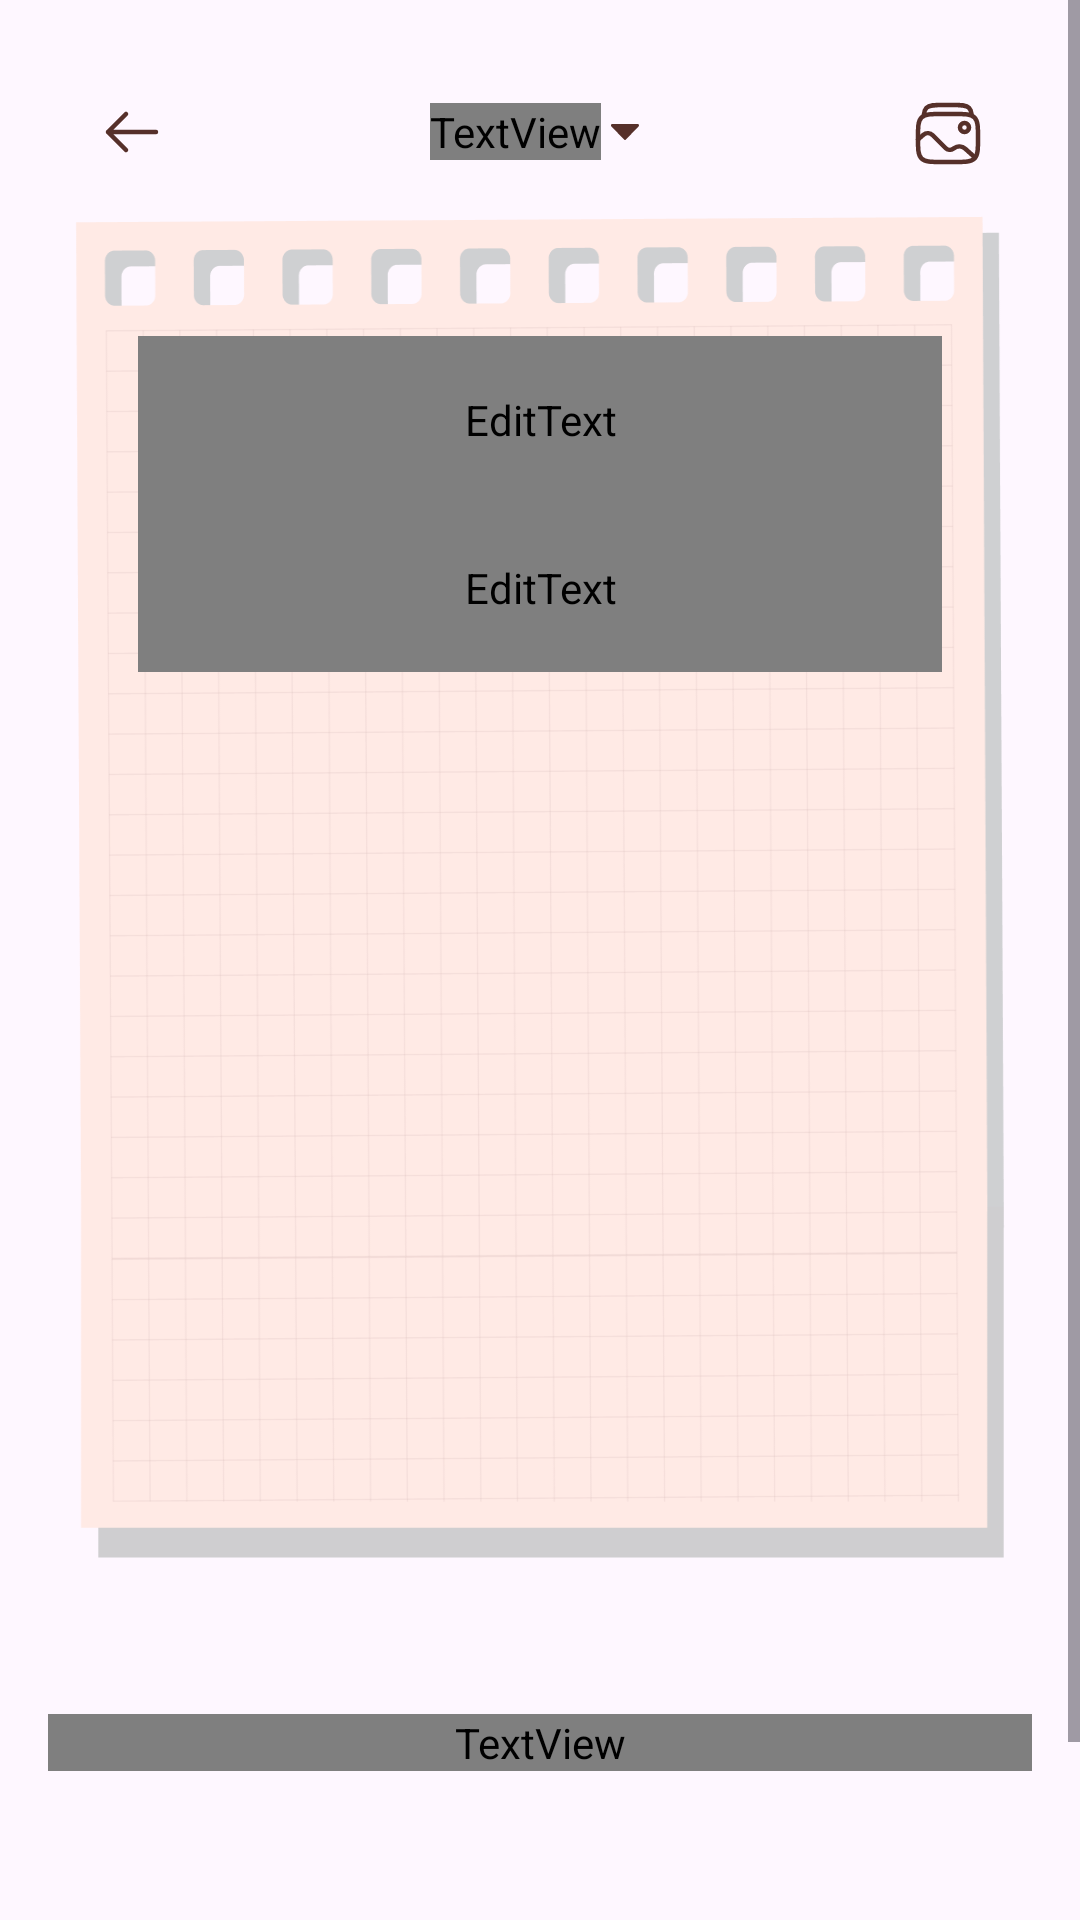

Point at icon controls on the screen. Image size 1080 x 1920, points as [x,y].
back: [131,132]
down: [625,132]
images: [948,133]
